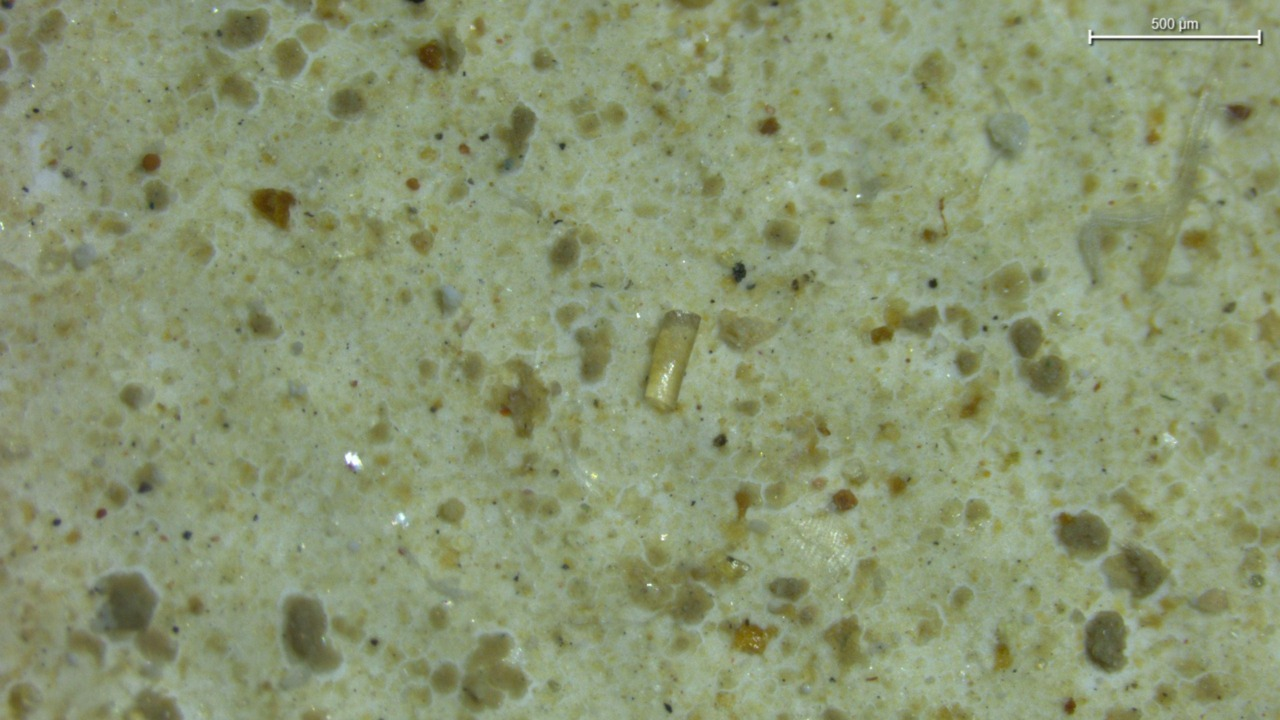microplastic_fragment: (645, 311, 701, 410), (987, 112, 1029, 159), (436, 284, 463, 316)
